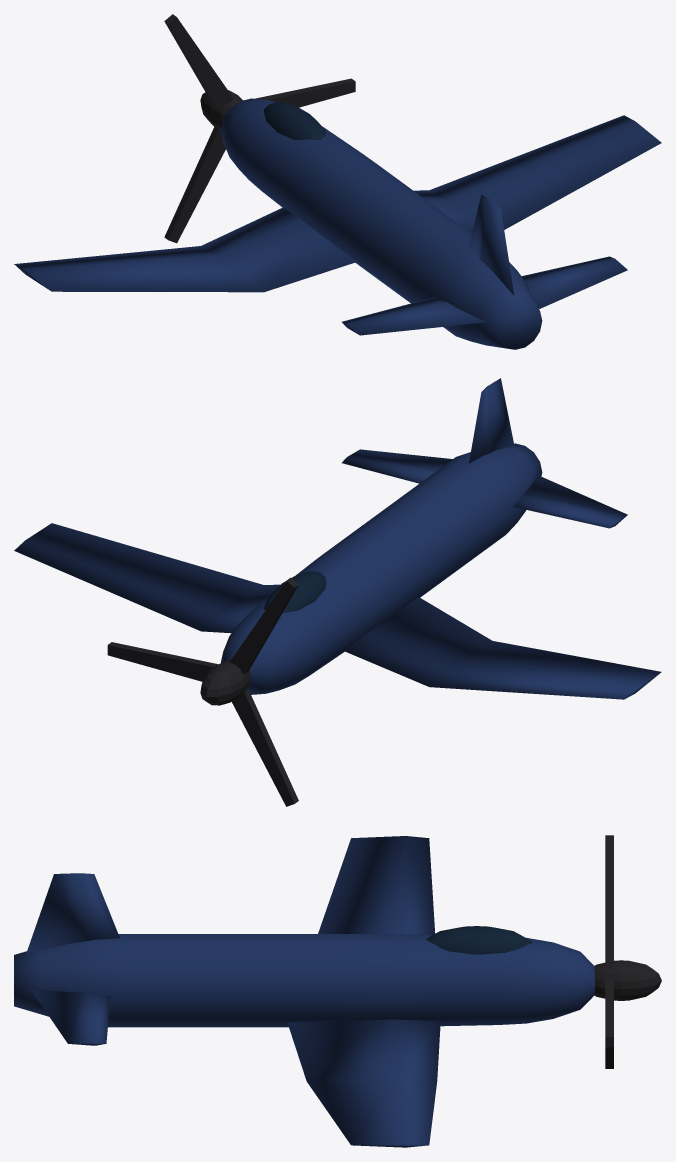
The picture shows the model from 3 angles, top to bottom: view 1: azimuth 30°, elevation 25°; view 2: azimuth 150°, elevation 25°; view 3: azimuth 270°, elevation 25°; orthographic projection. The views are drawn at different scales.
Parts seen in each view (by area): view 1: Body, Detail, Canopy; view 2: Body, Detail, Canopy; view 3: Body, Detail, Canopy.
Part boxes in pixels (bbox=[...]): Body: bbox=[14, 98, 661, 349]; Detail: bbox=[164, 14, 355, 243]; Canopy: bbox=[263, 102, 326, 139]; Body: bbox=[14, 378, 661, 699]; Detail: bbox=[107, 577, 298, 806]; Canopy: bbox=[263, 571, 326, 612]; Body: bbox=[14, 836, 594, 1147]; Detail: bbox=[594, 835, 661, 1068]; Canopy: bbox=[426, 926, 532, 954].
Bounding box in the file's own units: 12.5 × 4.43 × 11.14.
